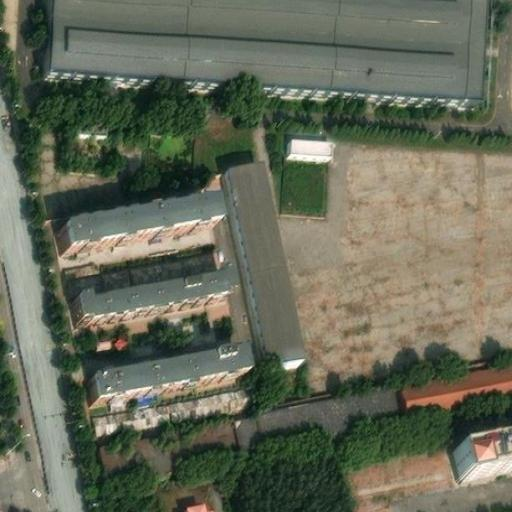building: (42, 0, 492, 94), (229, 155, 306, 354), (233, 378, 409, 447), (64, 194, 220, 250), (87, 345, 243, 400), (93, 381, 247, 432), (68, 275, 221, 322), (402, 355, 512, 412), (164, 413, 241, 468), (103, 427, 173, 485), (461, 428, 512, 467), (289, 131, 331, 147), (72, 118, 109, 136), (181, 495, 215, 512)
